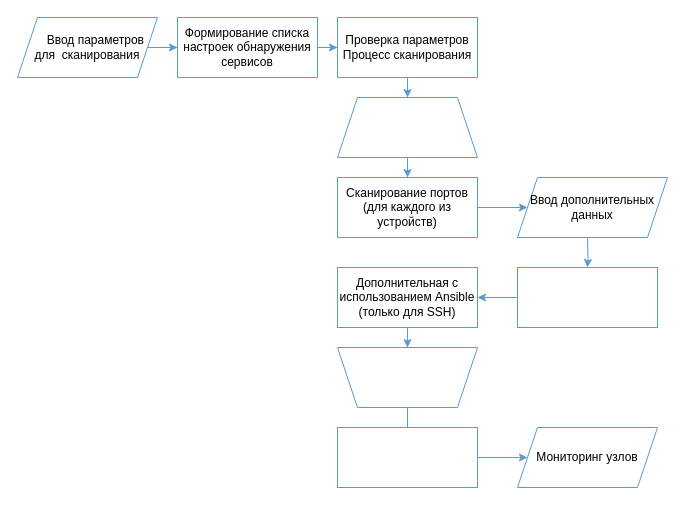
This 685x505 diagram has some shape labels left out. The shapes that lost their labels are listed below. From the top down, each one's centre as x and y in pixels, then its label:
At pixel 407 127: "Цикл по обнаруженным узлам".
At pixel 587 297: "Проверка уязвимостей для прошивок/приложений".
At pixel 407 377: "Конец цикла".
At pixel 407 457: "Сохранение данных об узлах".
